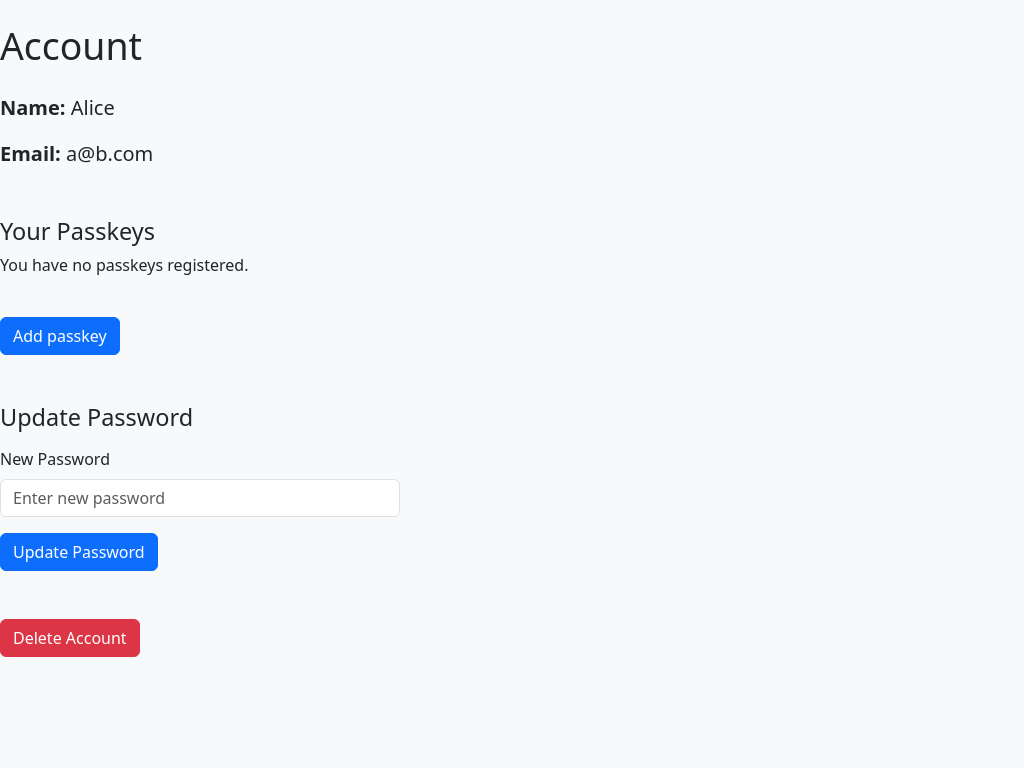
Test: AccountPage — add passkey › shows an error modal when passkey registration fails
Click the button "Add passkey" at (60, 336), box x1=0 y1=317 x2=120 y2=355
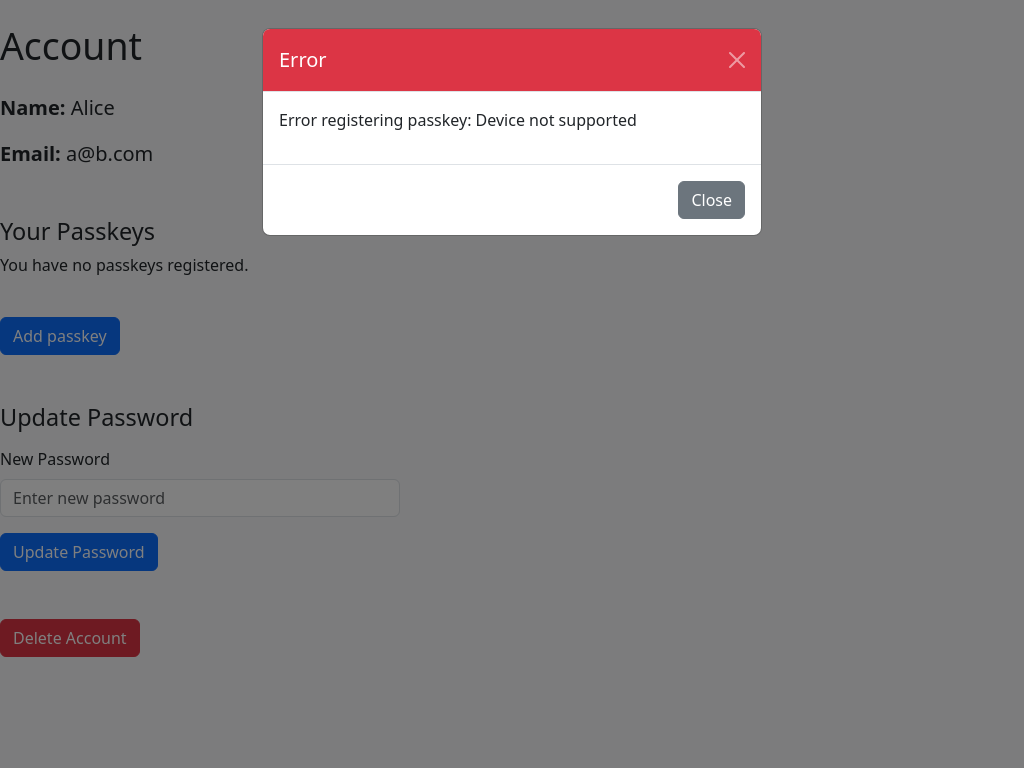
Now the text "Error registering passkey: Device not supported" is shown, box x1=279 y1=109 x2=637 y2=131
